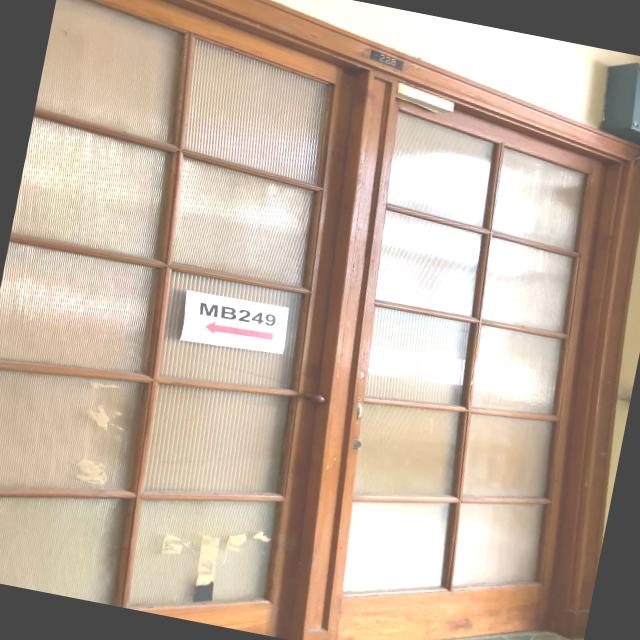room228: (364, 47, 408, 74)
